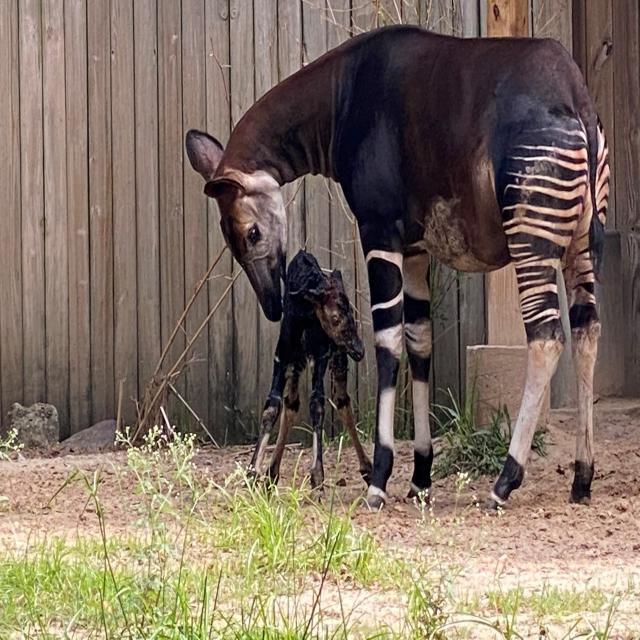Okapi: (187, 25, 602, 511), (250, 250, 376, 480)
